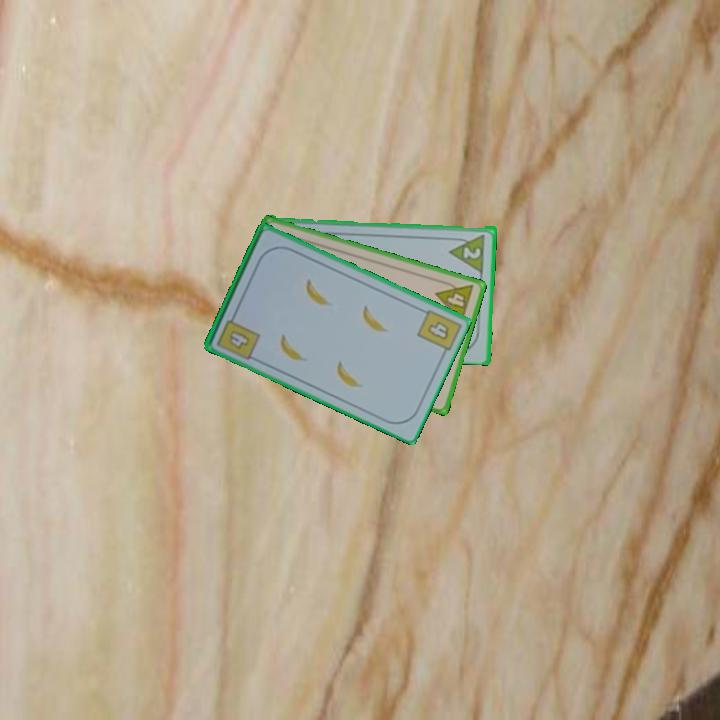2p: (460, 242, 484, 261)
4b: (213, 309, 263, 360), (424, 317, 452, 343)
4p: (432, 276, 477, 325)
